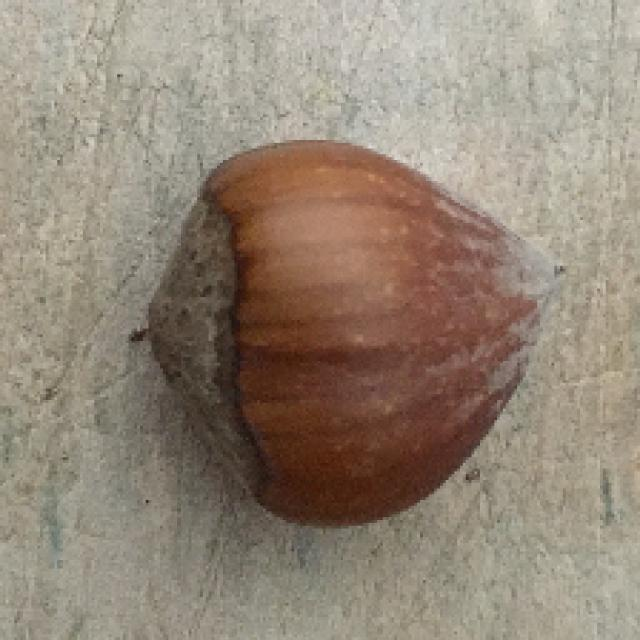qualityHazelnut: (136, 141, 549, 533)
